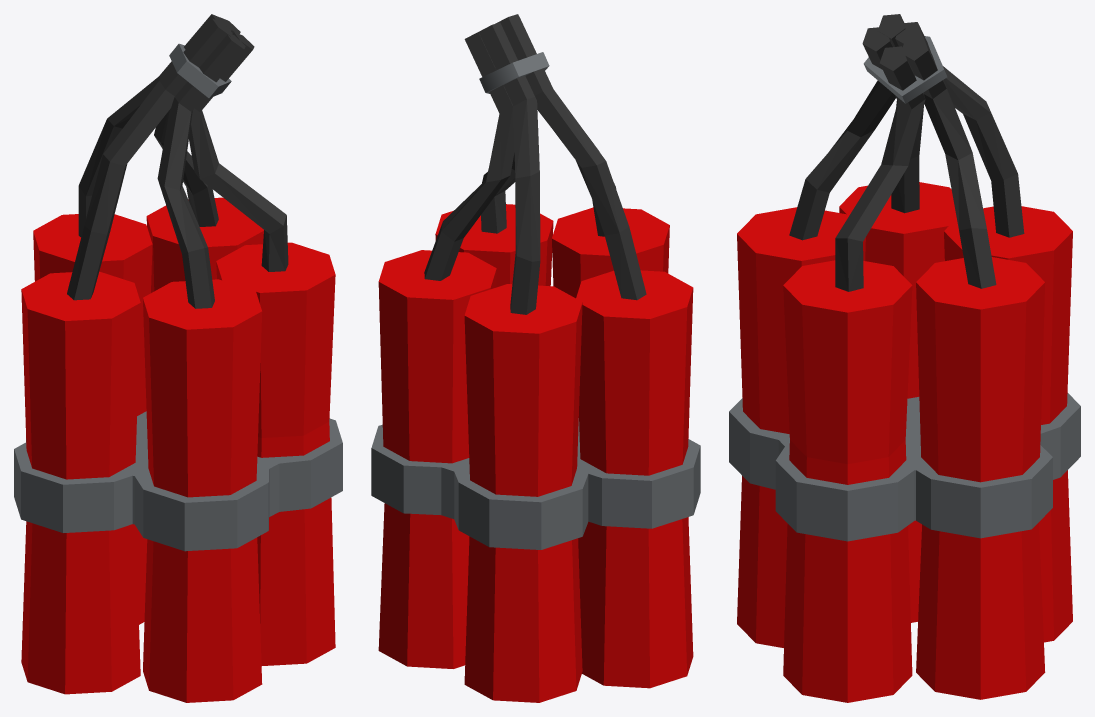
The model's file is RedMetalMechSmallDynamite1.fbx.
3 views of the same model, side by side, from view 1: azimuth 30°, elevation 25°; view 2: azimuth 150°, elevation 25°; view 3: azimuth 270°, elevation 25° (orthographic). The views are drawn at different scales.
Visible parts, largest first — view 1: RedMetalMechSmallDynamite1; view 2: RedMetalMechSmallDynamite1; view 3: RedMetalMechSmallDynamite1.
Boxes of the visible parts, box(x1,y1,x2,y2) form: RedMetalMechSmallDynamite1: box(14, 14, 342, 702); RedMetalMechSmallDynamite1: box(371, 14, 700, 702); RedMetalMechSmallDynamite1: box(729, 14, 1080, 702).
Bounding box in the file's own units: 64.62 × 133 × 65.36.
